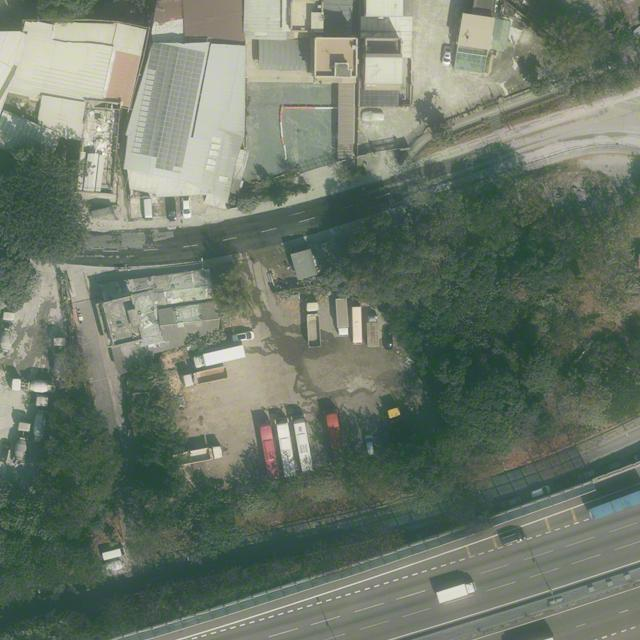panel: (141, 42, 205, 173)
